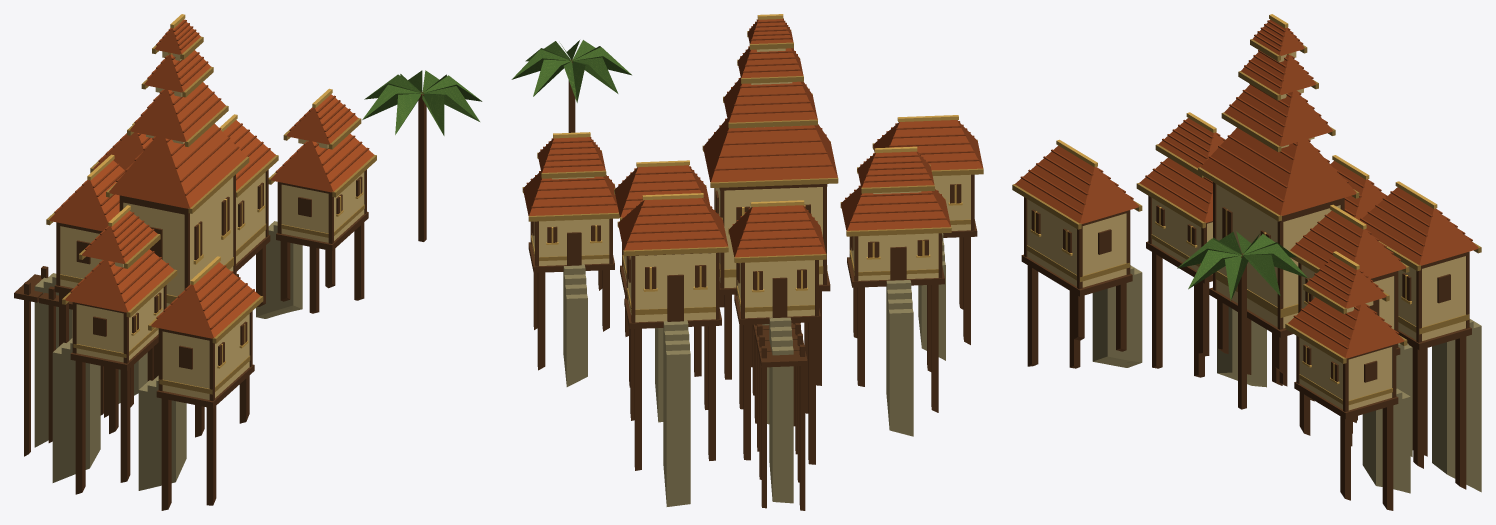
Rendered from ayutthaya.obj.
The picture shows the model from 3 angles, left to right: view 1: azimuth 30°, elevation 25°; view 2: azimuth 150°, elevation 25°; view 3: azimuth 270°, elevation 25°; orthographic projection. The views are drawn at different scales.
Parts seen in each view (by area): view 1: ayutthaya; view 2: ayutthaya; view 3: ayutthaya.
Part boxes in pixels (<box>): ayutthaya: <box>14,14,482,510</box>; ayutthaya: <box>511,14,983,510</box>; ayutthaya: <box>1012,14,1481,510</box>.
Bounding box in the file's own units: 12.89 × 12.93 × 11.6.
